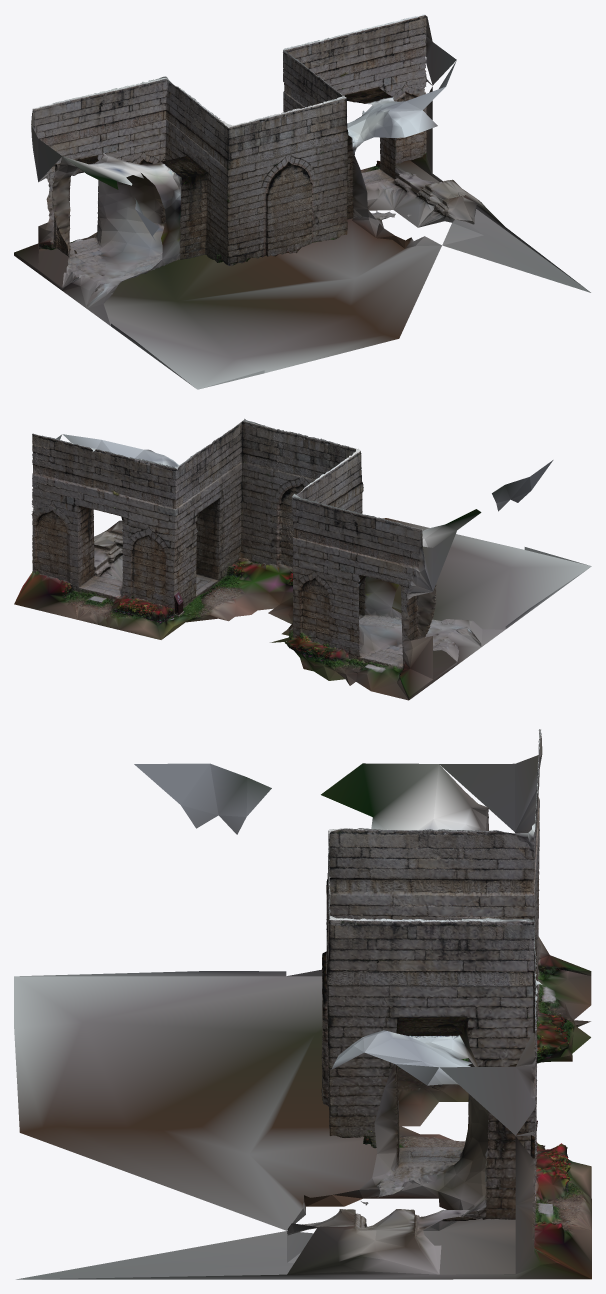
Rendered from qingjinsi_f1.glb.
3 renders of one model, top to bottom at view 1: azimuth 30°, elevation 25°; view 2: azimuth 150°, elevation 25°; view 3: azimuth 270°, elevation 25°, orthographic. The views are drawn at different scales.
Parts seen in each view (by area): view 1: Mesh_0_Part_0; view 2: Mesh_0_Part_0; view 3: Mesh_0_Part_0.
Boxes of the visible parts, x1,y1,x2,y2 form: Mesh_0_Part_0: (14, 14, 590, 389); Mesh_0_Part_0: (14, 418, 591, 700); Mesh_0_Part_0: (14, 729, 591, 1279).
Size of the model in its own units: 38.37 by 14.89 by 30.79.
